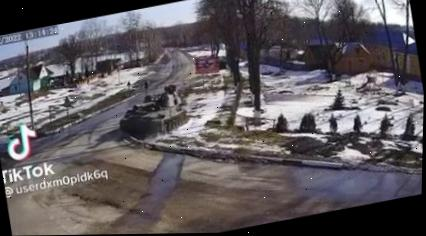person: (142, 79, 151, 92)
sau: (113, 82, 193, 143)
